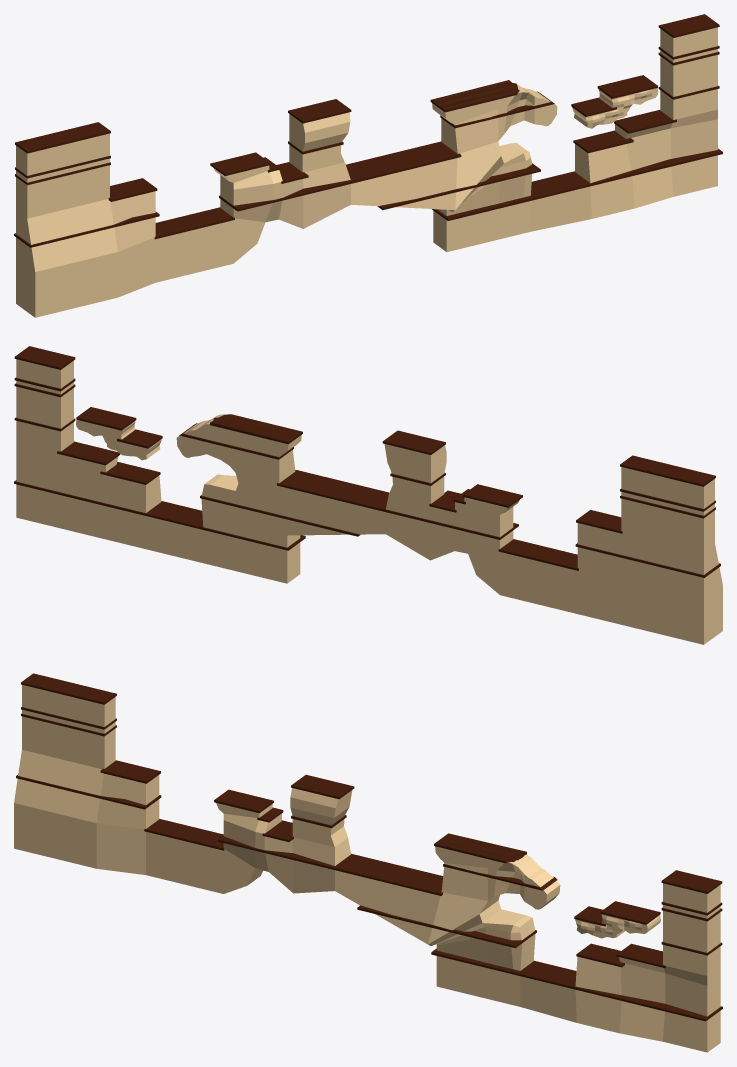
File: map3.FBX
3 renders of one model, top to bottom at view 1: azimuth 30°, elevation 25°; view 2: azimuth 150°, elevation 25°; view 3: azimuth 330°, elevation 25°, orthographic.
Visible parts, largest first — view 1: map3; view 2: map3; view 3: map3.
Boxes of the visible parts, box(x1,y1,x2,y2) form: map3: box(14, 14, 722, 317); map3: box(14, 346, 722, 644); map3: box(14, 673, 722, 1052).
Bounding box in the file's own units: 699 × 39.47 × 195.
